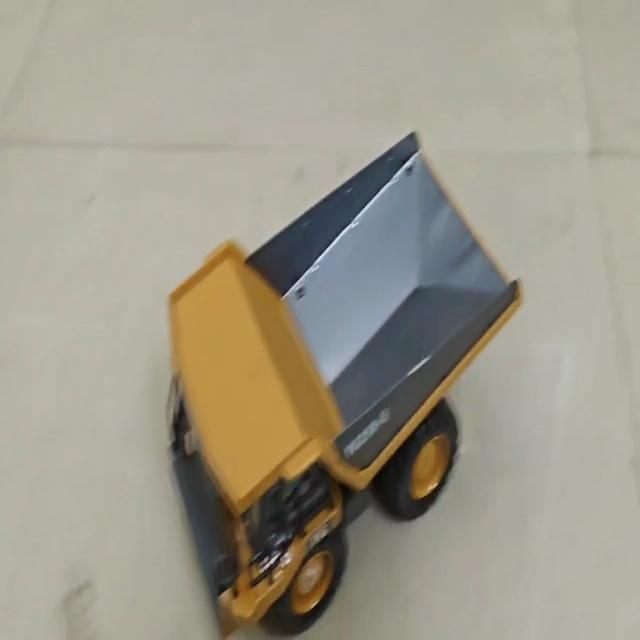dump_truck: (116, 125, 525, 634)
